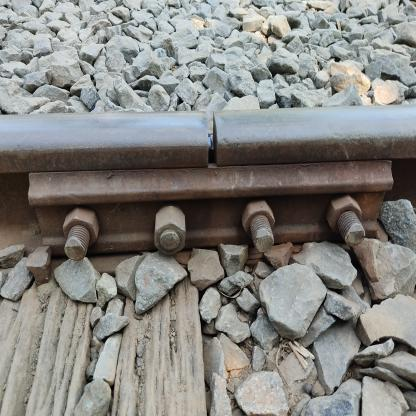Non Defective 2: (166, 106, 260, 178)
Non Defective 3: (20, 168, 416, 280)
